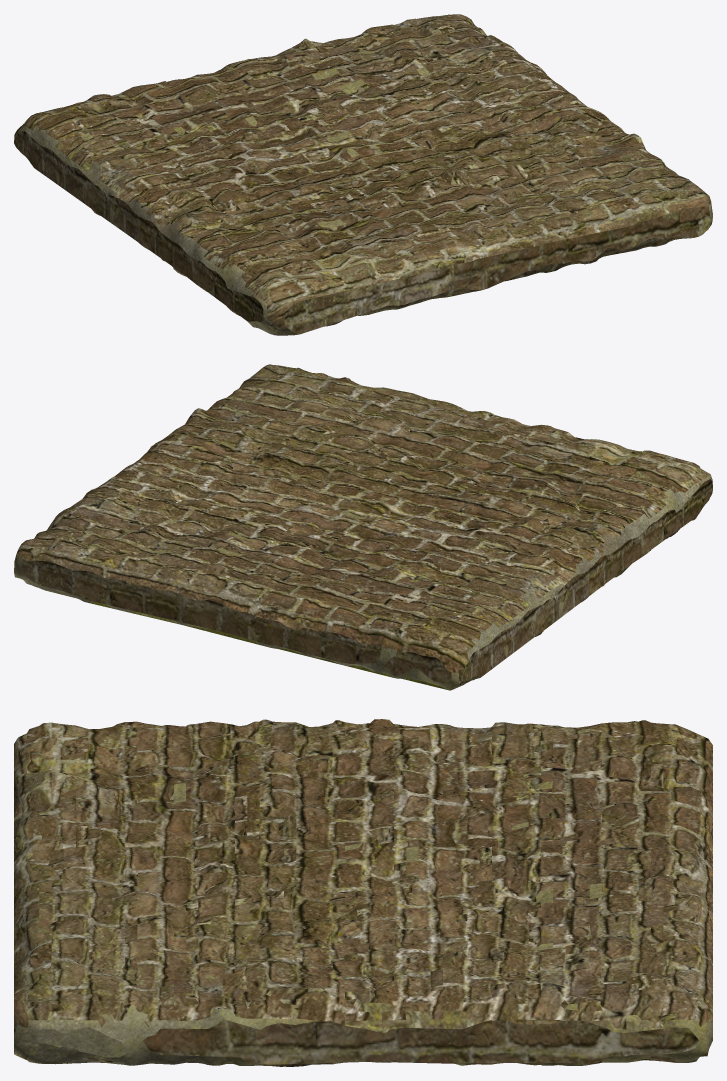
Rendered from Stone_Floor.fbx.
3 renders of one model, top to bottom at view 1: azimuth 30°, elevation 25°; view 2: azimuth 150°, elevation 25°; view 3: azimuth 270°, elevation 25°, orthographic. The views are drawn at different scales.
Parts seen in each view (by area): view 1: Plane_dmg; view 2: Plane_dmg; view 3: Plane_dmg.
Part boxes in pixels (x1=…): Plane_dmg: x1=14, y1=14, x2=712, y2=335; Plane_dmg: x1=14, y1=364, x2=712, y2=690; Plane_dmg: x1=14, y1=719, x2=712, y2=1066.
Bounding box in the file's own units: 200 × 21.42 × 200.
